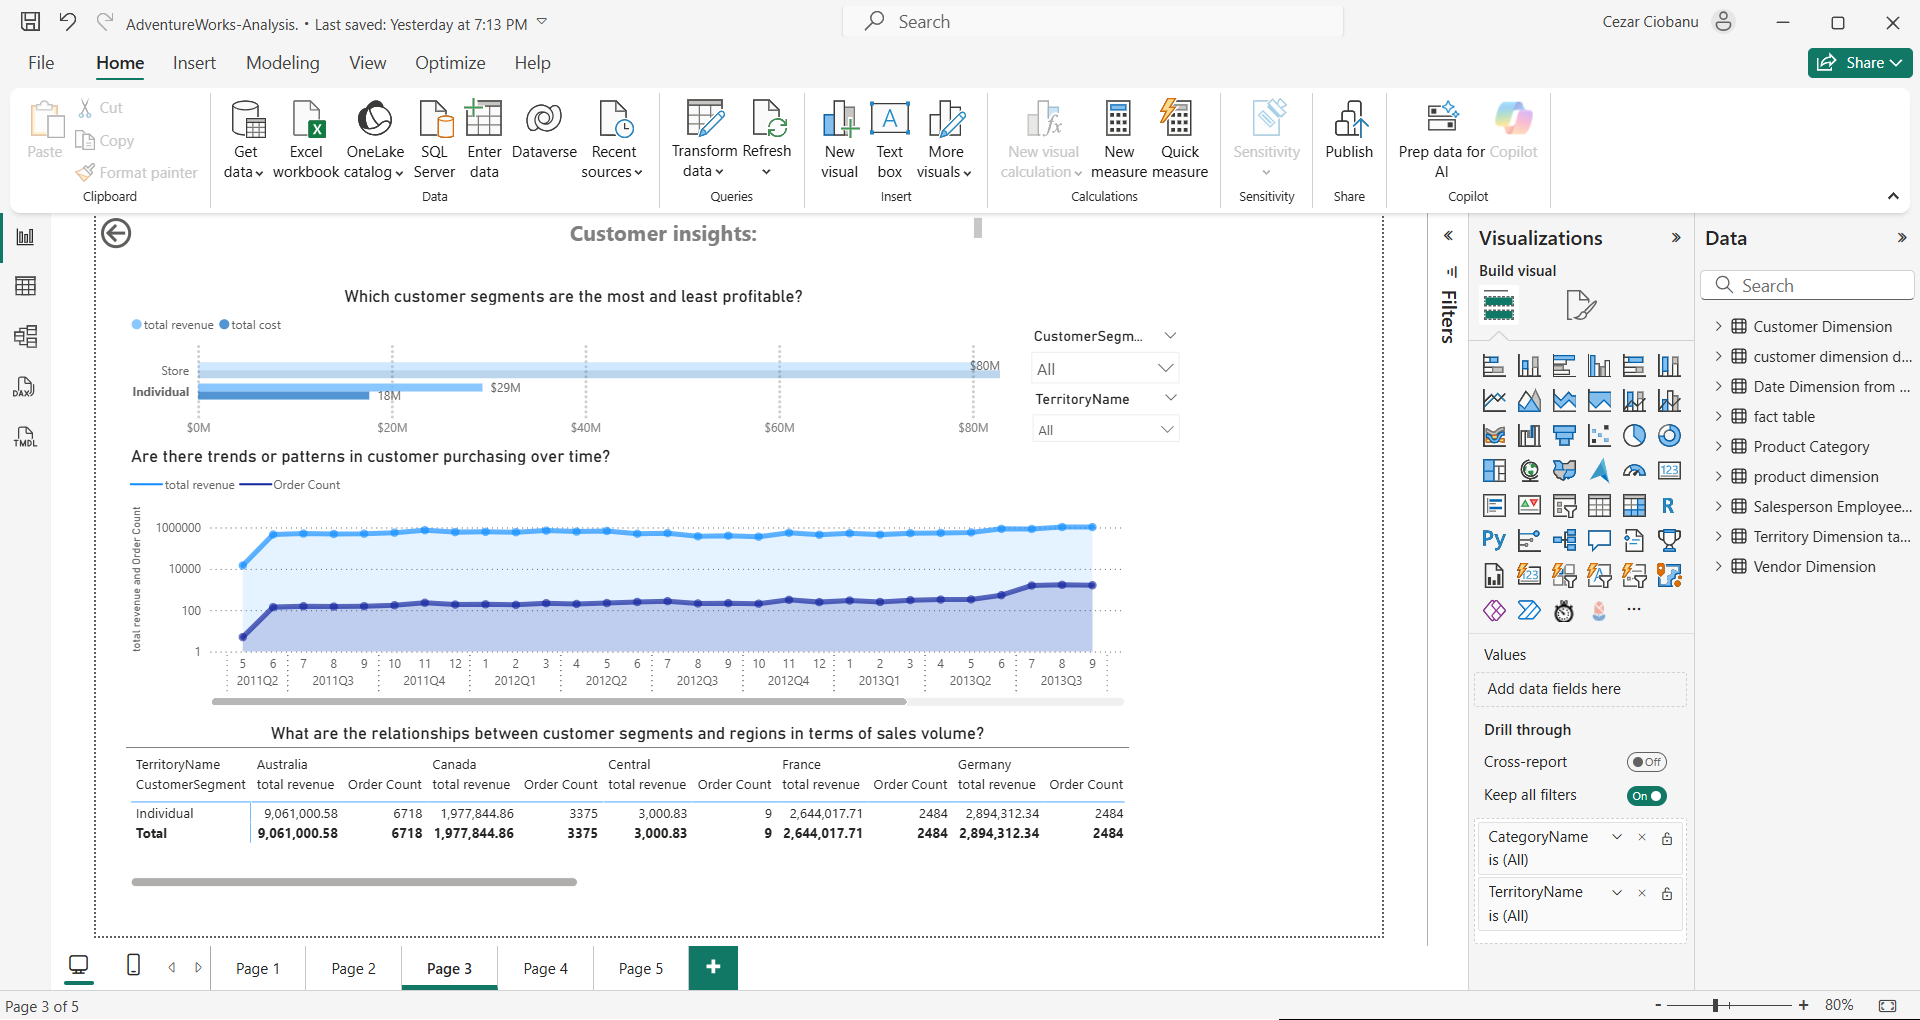

This screenshot's page, from the dashboard's own definition file:
{"tool":"powerbi","page":{"name":"Page 3","canvas":[1280,720],"ordinal":2},"visuals":[{"type":"textbox","box":[251.4,0,635.7,40],"z":0},{"type":"clusteredBarChart","title":"Which customer segments are the most and least profitable?","fields":{"Category":["customer dimension  detail tabl.CustomerSegment"],"Y":["fact table.total revenue","fact table.total cost"]},"box":[30,72,891,160],"z":1000},{"type":"actionButton","box":[0,0,100,40],"z":2000},{"type":"lineChart","title":"Are there trends or patterns in customer purchasing over time?","fields":{"Y":["fact table.total revenue","fact table.Order Count"],"Category":["Date Dimension from orders.YearQuarter","Date Dimension from orders.Month"]},"box":[30,231.4,998.6,264.3],"z":3000},{"type":"slicer","fields":{"Values":["customer dimension  detail tabl.CustomerSegment"]},"box":[921.1,108.9,167.8,62.2],"z":4000},{"type":"pivotTable","title":"What are the relationships between customer segments and regions in terms of sales volume?","fields":{"Rows":["customer dimension  detail tabl.CustomerSegment"],"Columns":["Territory Dimension table.TerritoryName"],"Values":["fact table.total revenue","fact table.Order Count"]},"box":[30,507.1,998.6,167.1],"z":5000},{"type":"slicer","fields":{"Values":["Territory Dimension table.TerritoryName"]},"box":[921.4,171.4,167.1,60],"z":6000}]}

Visuals, with their boxes on the page's 1280x720 design canvas (x1, y1, x2, y2). These are canvas units, not pixel positions in the 1920x1020 screenshot, which may show the page scaled, cropped or inside an application window:
textbox: <region>251, 0, 887, 40</region>
"Which customer segments are the most and least profitable?" clusteredBarChart: <region>30, 72, 921, 232</region>
actionButton: <region>0, 0, 100, 40</region>
"Are there trends or patterns in customer purchasing over time?" lineChart: <region>30, 231, 1029, 496</region>
slicer - customer dimension  detail tabl.CustomerSegment: <region>921, 109, 1089, 171</region>
"What are the relationships between customer segments and regions in terms of sales volume?" pivotTable: <region>30, 507, 1029, 674</region>
slicer - Territory Dimension table.TerritoryName: <region>921, 171, 1088, 231</region>
